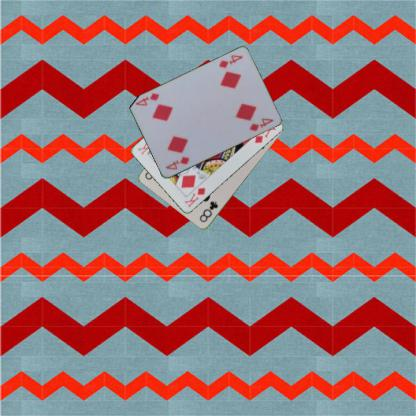4d: (215, 52, 244, 70), (163, 154, 191, 171)
8c: (197, 198, 220, 223)
Kd: (182, 185, 206, 208)
